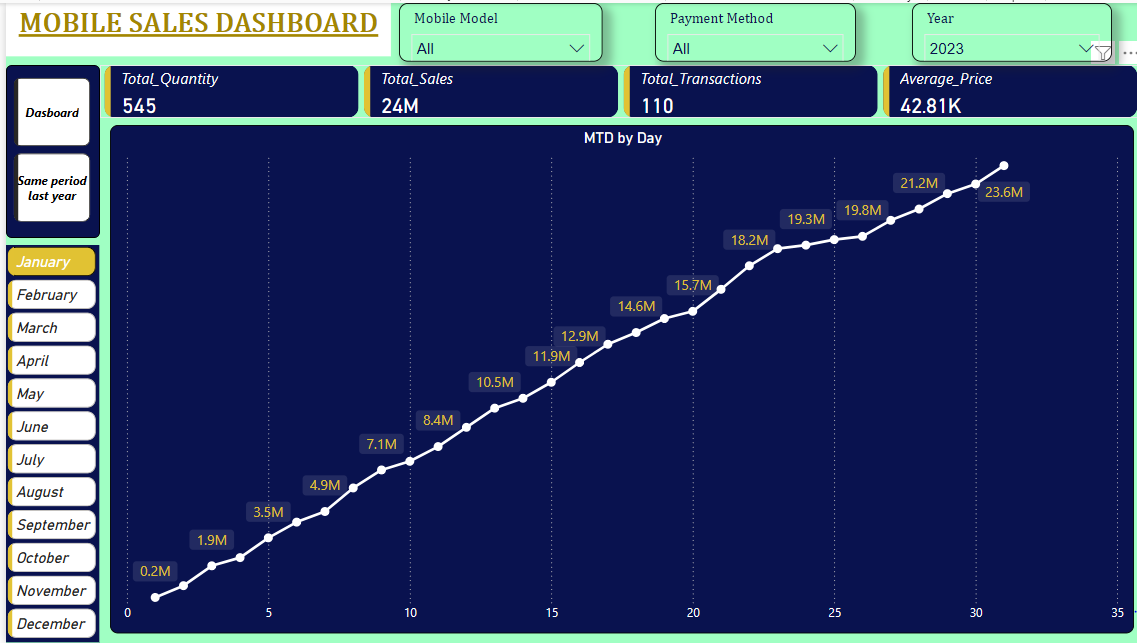

What the dashboard file says about the page in this screenshot:
{"tool":"powerbi","page":{"name":"MTD Report","canvas":[1280,720],"ordinal":1},"visuals":[{"type":"shape","box":[0,69.8,105.8,194.6],"z":0},{"type":"textbox","box":[0,0,433.1,60.4],"z":1000},{"type":"cardVisual","fields":{"Data":["Sales_Data.Total_Quantity","Sales_Data.Total_Sales","Sales_Data.Total_Transactions","Sales_Data.Average_Price"]},"box":[105.8,69.8,1174.5,59.6],"z":2000},{"type":"slicer","fields":{"Values":["Sales_Data.Mobile Model"]},"box":[442.1,0,228.8,65.5],"z":3000},{"type":"slicer","fields":{"Values":["Sales_Data.Payment Method"]},"box":[730,0,226.2,65.5],"z":4000},{"type":"slicer","fields":{"Values":["Custom_Calender.Date.Variation.Date Hierarchy.Year"]},"box":[1019.1,0,224.9,65.5],"z":5000},{"type":"advancedSlicerVisual","fields":{"Values":["Custom_Calender.Date.Variation.Date Hierarchy.Month"]},"box":[0,272.4,105.4,447.2],"z":6000},{"type":"lineChart","fields":{"Category":["Custom_Calender.Date.Variation.Date Hierarchy.Year","Custom_Calender.Date.Variation.Date Hierarchy.Quarter","Custom_Calender.Date.Variation.Date Hierarchy.Month","Custom_Calender.Date.Variation.Date Hierarchy.Day"],"Y":["Sales_Data.MTD"]},"box":[117,137.2,1152,571.5],"z":7000},{"type":"pageNavigator","box":[6.8,82.1,92.2,169.9],"z":7001}]}

Visuals, with their boxes in screenshot pixels (x1, y1, x2, y2), scaled from the page's 1280x720 canvas onto the 1137x643 screenshot:
shape: BBox(0, 62, 94, 236)
textbox: BBox(0, 0, 385, 54)
cardVisual - Sales_Data.Total_Quantity x Sales_Data.Total_Sales: BBox(94, 62, 1136, 116)
slicer - Sales_Data.Mobile Model: BBox(393, 0, 596, 58)
slicer - Sales_Data.Payment Method: BBox(648, 0, 849, 58)
slicer - Custom_Calender.Date.Variation.Date Hierarchy.Year: BBox(905, 0, 1105, 58)
advancedSlicerVisual - Custom_Calender.Date.Variation.Date Hierarchy.Month: BBox(0, 243, 94, 642)
lineChart - Custom_Calender.Date.Variation.Date Hierarchy.Year x Custom_Calender.Date.Variation.Date Hierarchy.Quarter: BBox(104, 123, 1127, 633)
pageNavigator: BBox(6, 73, 88, 225)
